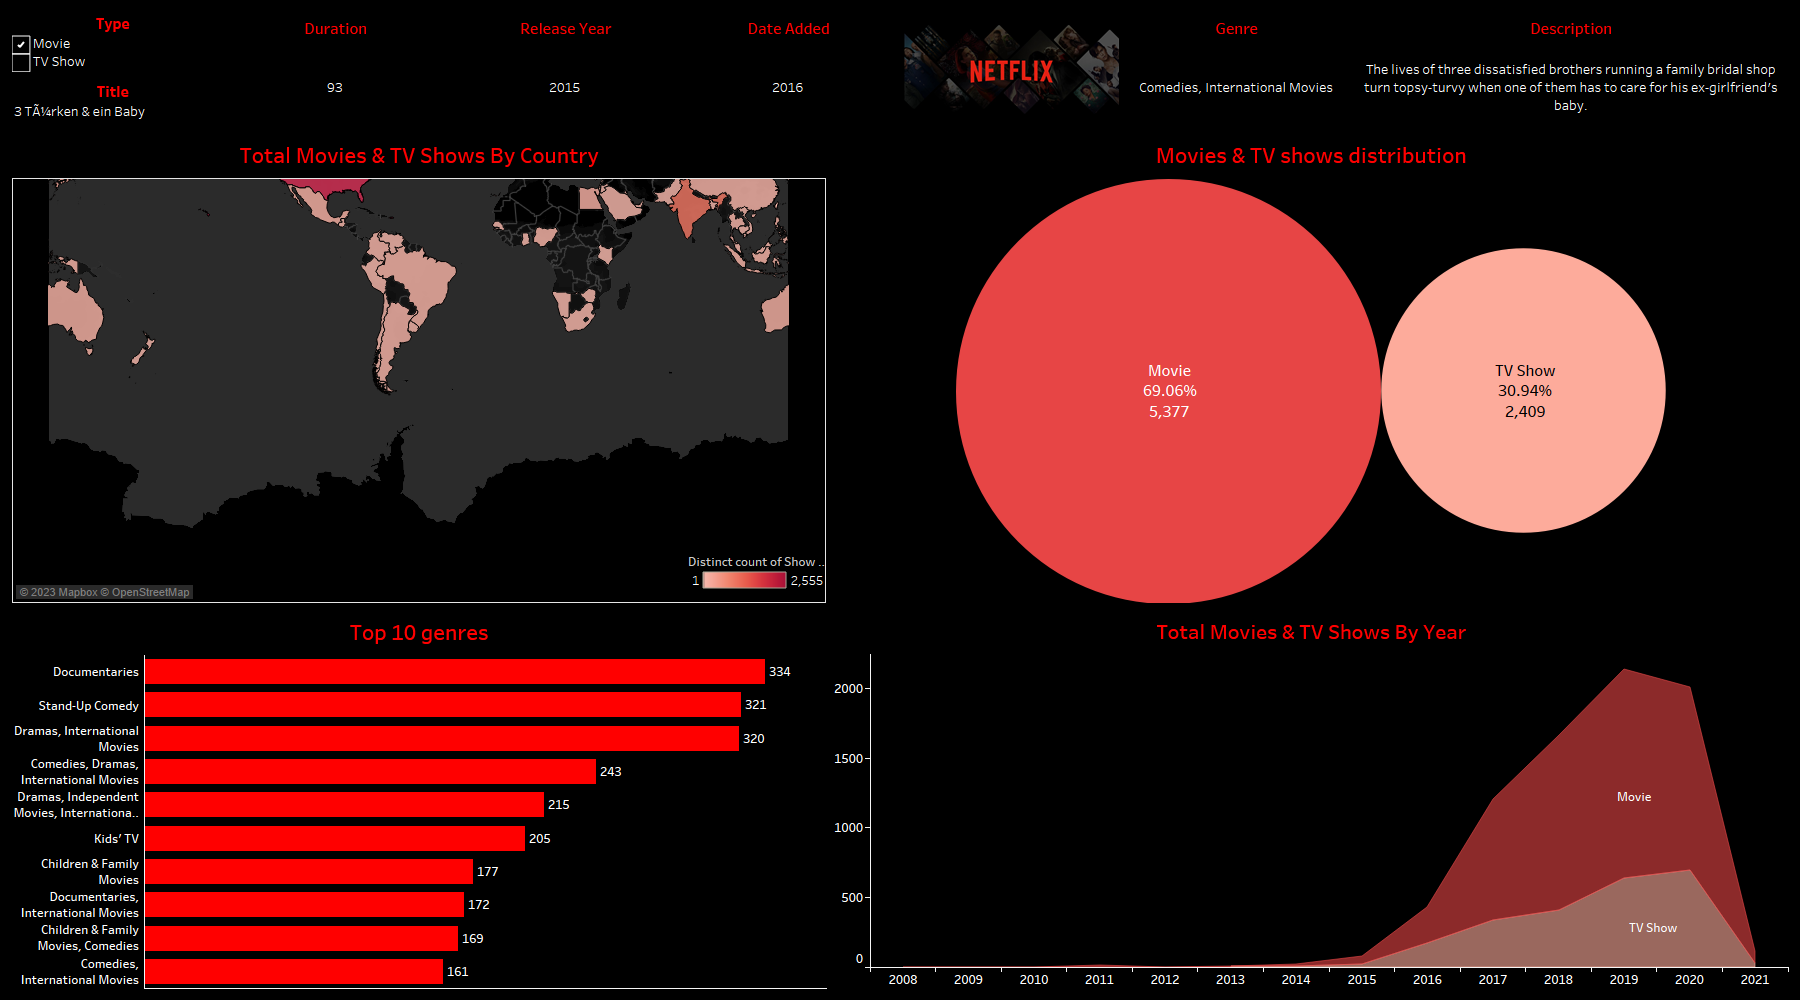

Layout of this report page (visuals, bound fields, positions):
{"tool":"tableau","page":{"name":"Netflix","canvas":[1800,1000],"ordinal":0},"visuals":[{"type":"filter","title":"Description","param":"[federated.0f8q82c1ooxe571gob0j21wiik97].[none:type:nk]","box":[8,8,209,68]},{"type":"worksheet","title":"Duration","mark":"Automatic","box":[217,8,237,122]},{"type":"worksheet","title":"Release Year","mark":"Automatic","box":[454,8,223,122]},{"type":"worksheet","title":"Date Added","mark":"Automatic","box":[677,8,223,122]},{"type":"image","param":"C:/Users/AHMED/Desktop/gsmarena_001.jpeg","box":[900,8,223,122]},{"type":"worksheet","title":"Genre","mark":"Automatic","box":[1123,8,227,122]},{"type":"worksheet","title":"Description","mark":"Automatic","box":[1350,8,442,122]},{"type":"filter","title":"Description","param":"[federated.0f8q82c1ooxe571gob0j21wiik97].[none:title:nk]","box":[8,76,209,54]},{"type":"worksheet","title":"Total Movie and tv shows by country","mark":"Multipolygon","box":[8,130,822,476.8]},{"type":"worksheet","title":"Movies & TV shows distribution","mark":"Circle","box":[830,130,962,476.8]},{"type":"legend","title":"Total Movie and tv shows by country","param":"[federated.0f8q82c1ooxe571gob0j21wiik97].[ctd:show_id:qk]","box":[688,549,140,85]},{"type":"worksheet","title":"Top 10 genres","mark":"Automatic","rows":["genres"],"cols":["show_id"],"box":[8,606.8,822,385.2]},{"type":"worksheet","title":"Total Movies and tv shows by year","mark":"Area","rows":["show_id"],"cols":["date_added"],"box":[830,606.8,962,385.2]}]}

Visuals, with their boxes in screenshot pixels (x1, y1, x2, y2), scaled from the page's 1800x1000 canvas onto the 1800x1000 screenshot:
"Description" filter: locate(8, 8, 217, 76)
"Duration" worksheet: locate(217, 8, 454, 130)
"Release Year" worksheet: locate(454, 8, 677, 130)
"Date Added" worksheet: locate(677, 8, 900, 130)
image: locate(900, 8, 1123, 130)
"Genre" worksheet: locate(1123, 8, 1350, 130)
"Description" worksheet: locate(1350, 8, 1792, 130)
"Description" filter: locate(8, 76, 217, 130)
"Total Movie and tv shows by country" worksheet (Multipolygon marks): locate(8, 130, 830, 607)
"Movies & TV shows distribution" worksheet (Circle marks): locate(830, 130, 1792, 607)
"Total Movie and tv shows by country" legend: locate(688, 549, 828, 634)
"Top 10 genres" worksheet: locate(8, 607, 830, 992)
"Total Movies and tv shows by year" worksheet (Area marks): locate(830, 607, 1792, 992)
